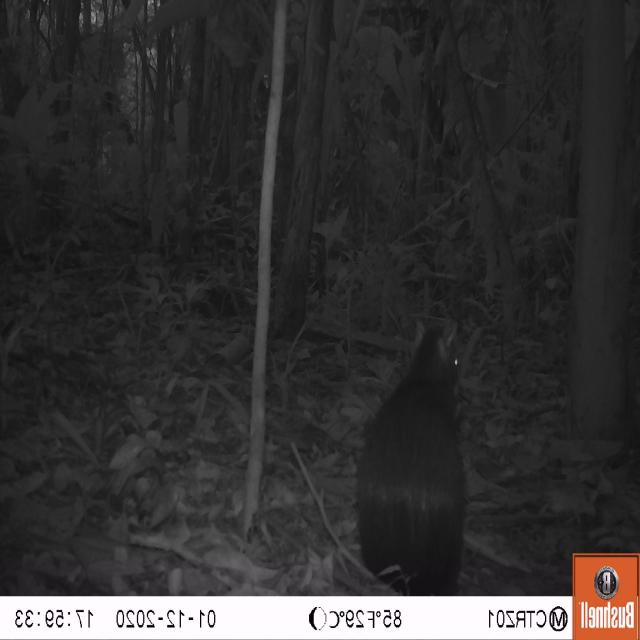Black Agouti: (333, 306, 500, 594)
